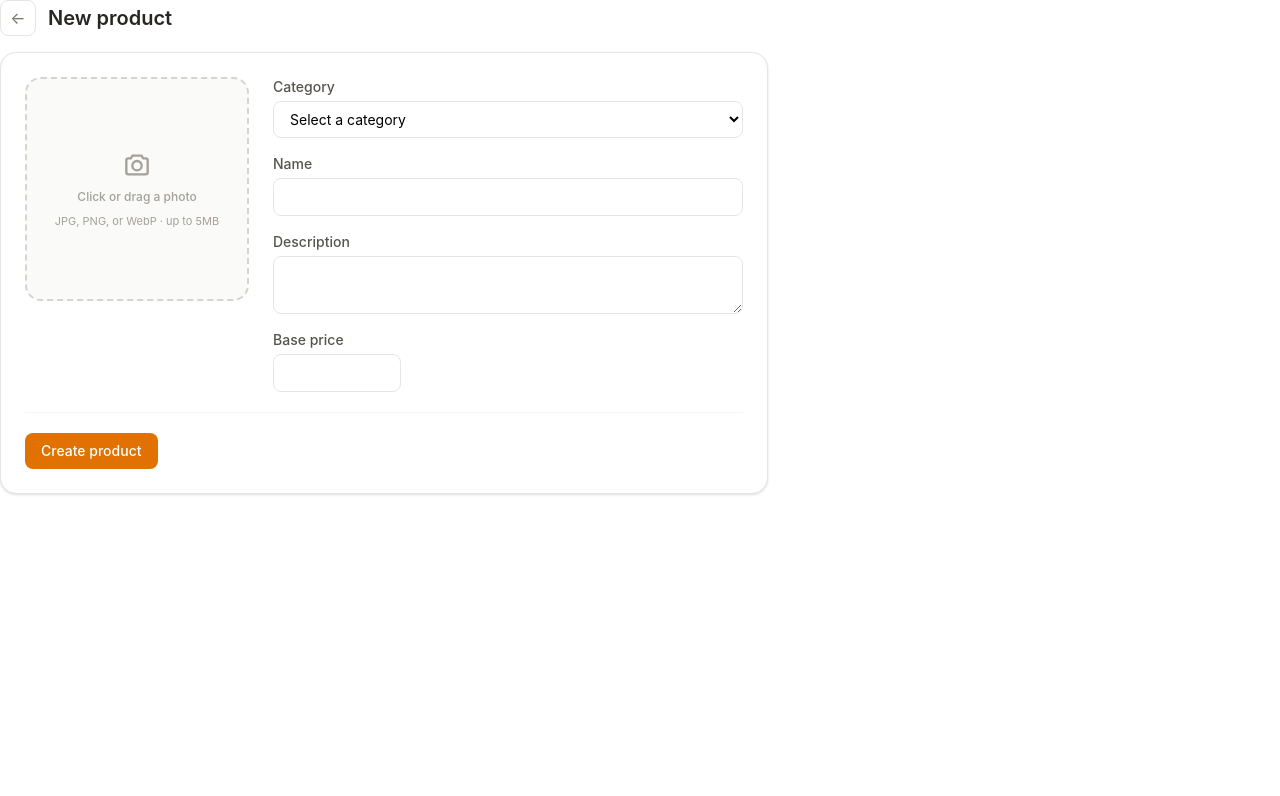
ProductFormPage — create › shows a success toast after creating a product
Select "Coffee" in the dropdown labelled "Category" at (508, 120), box [273,101,743,138]
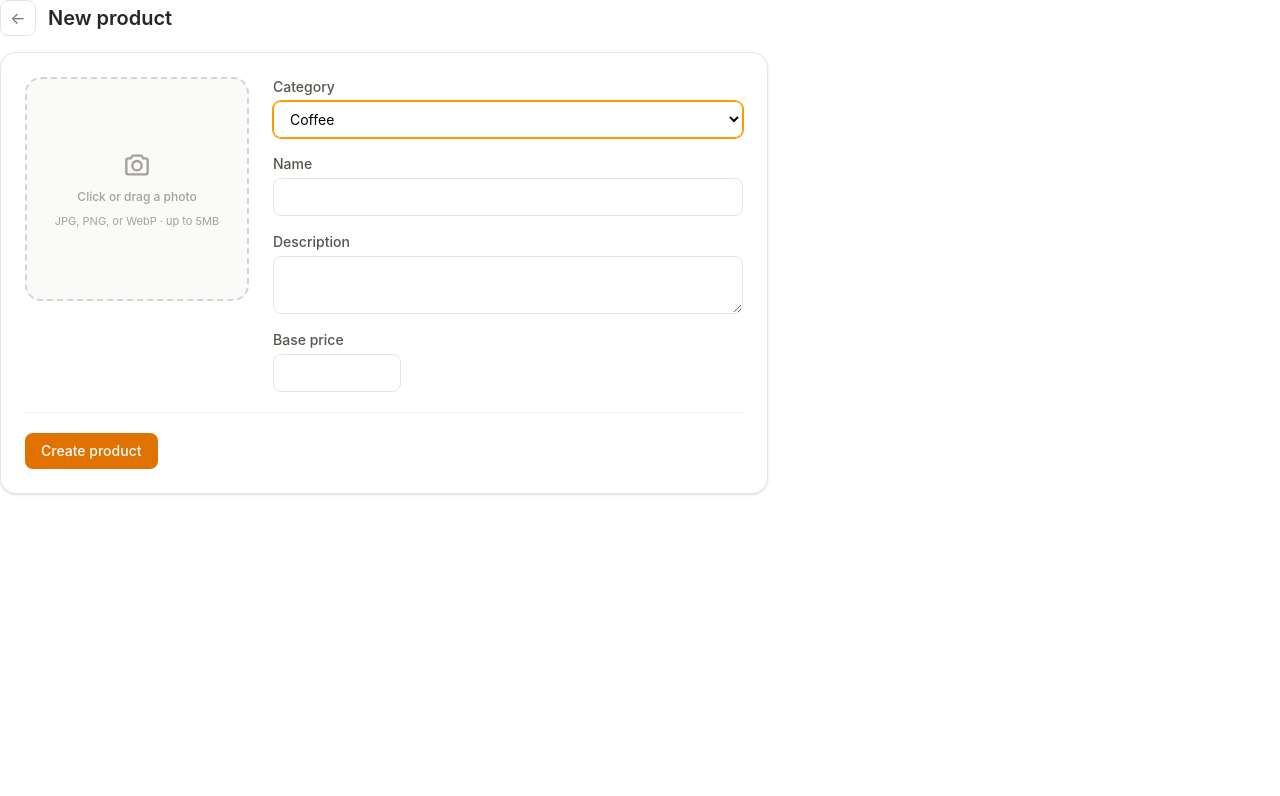
Type "Latte" into the field labelled "Name" at (508, 197), box [273,178,743,216]
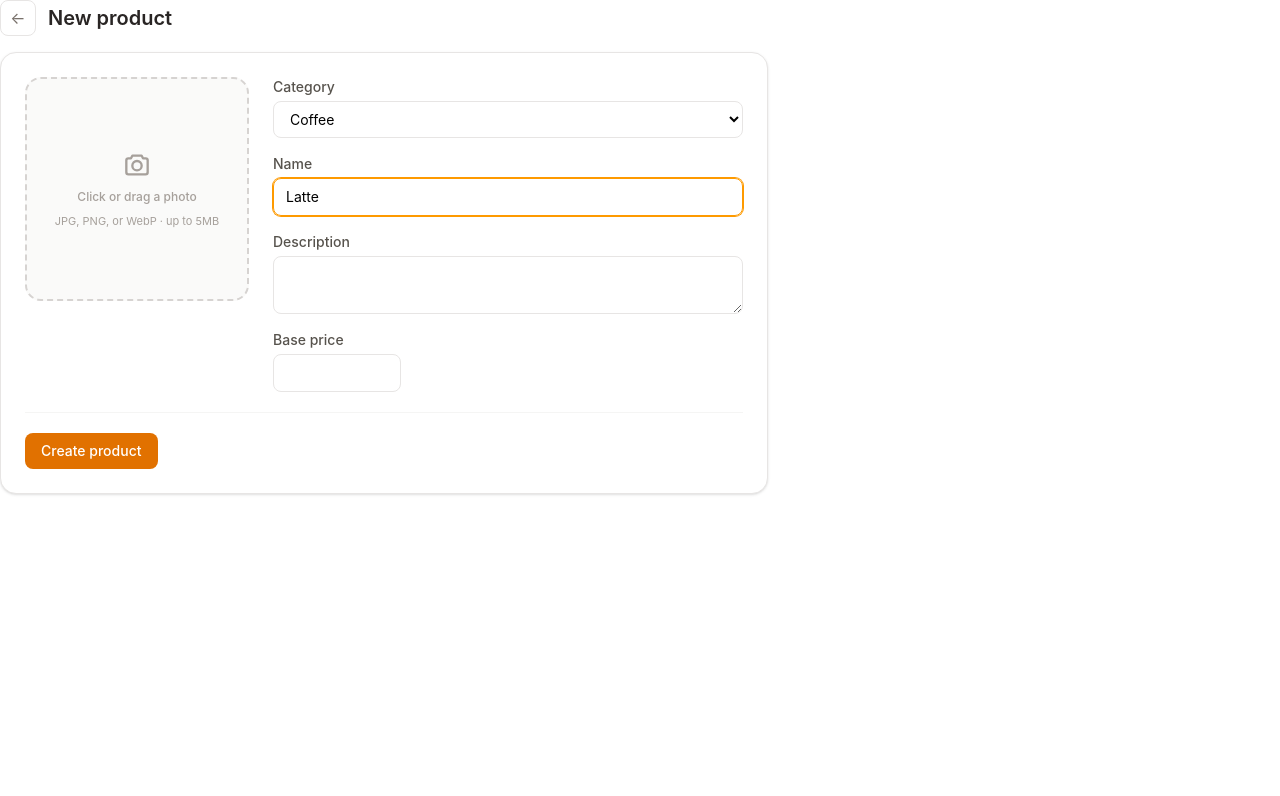
Type "4.50" into the number field labelled "Base price" at (337, 373), box [273,354,401,392]
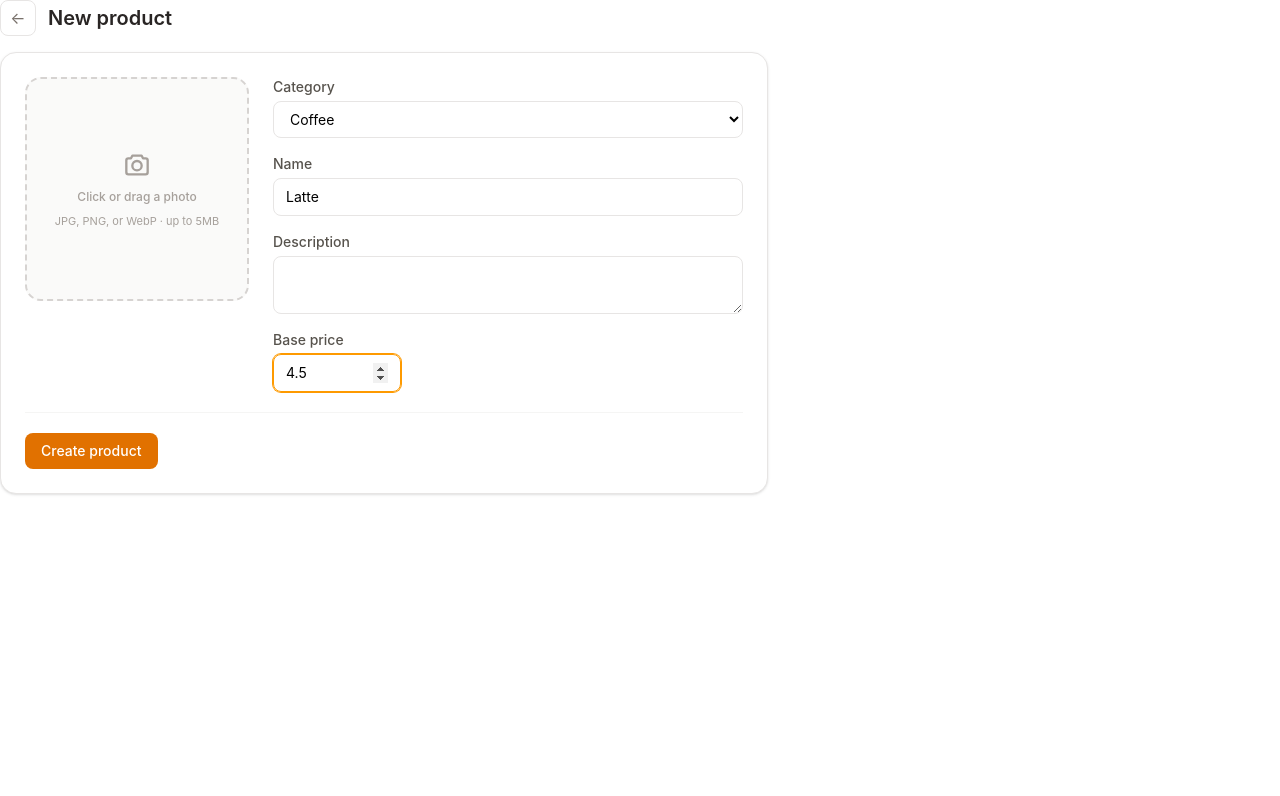
Click the button "Create product" at (91, 451), box [25,433,158,469]
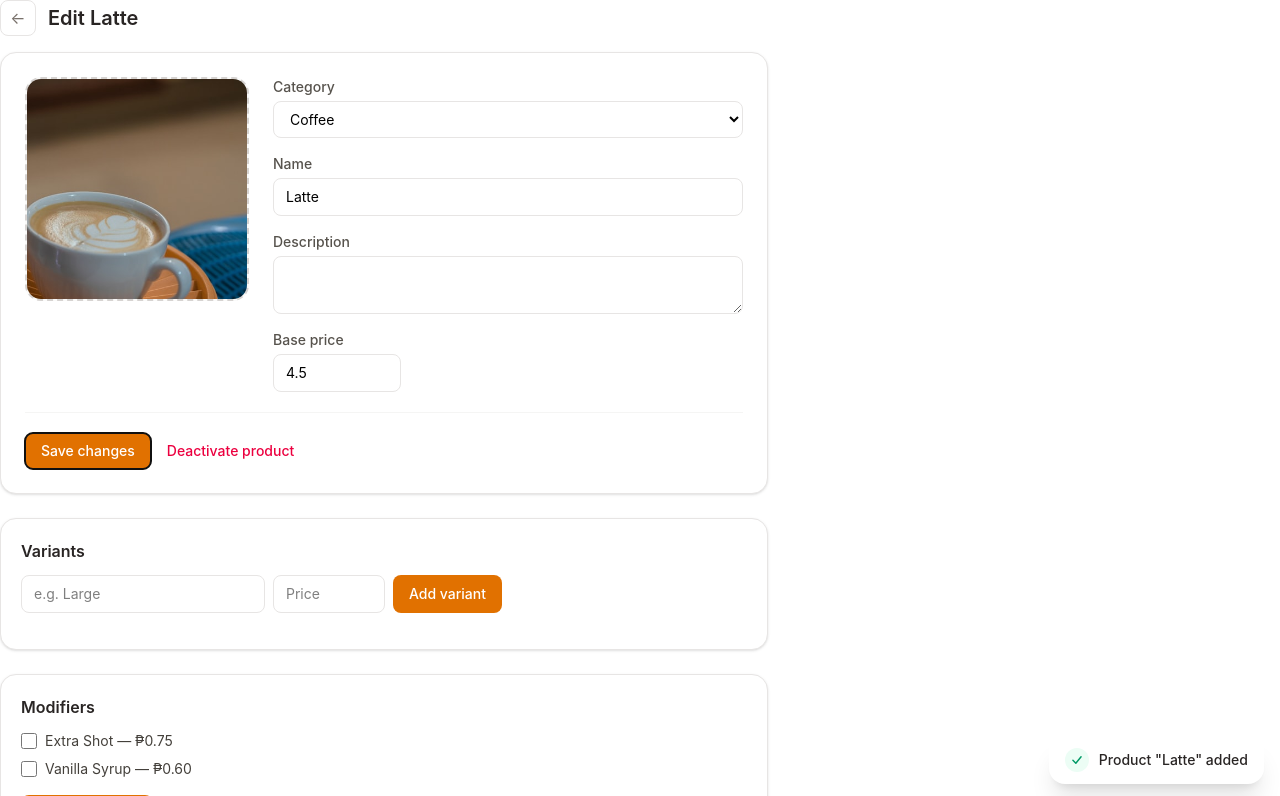
Now the message reads "Product \"Latte\" added", box [1099,751,1248,768]
